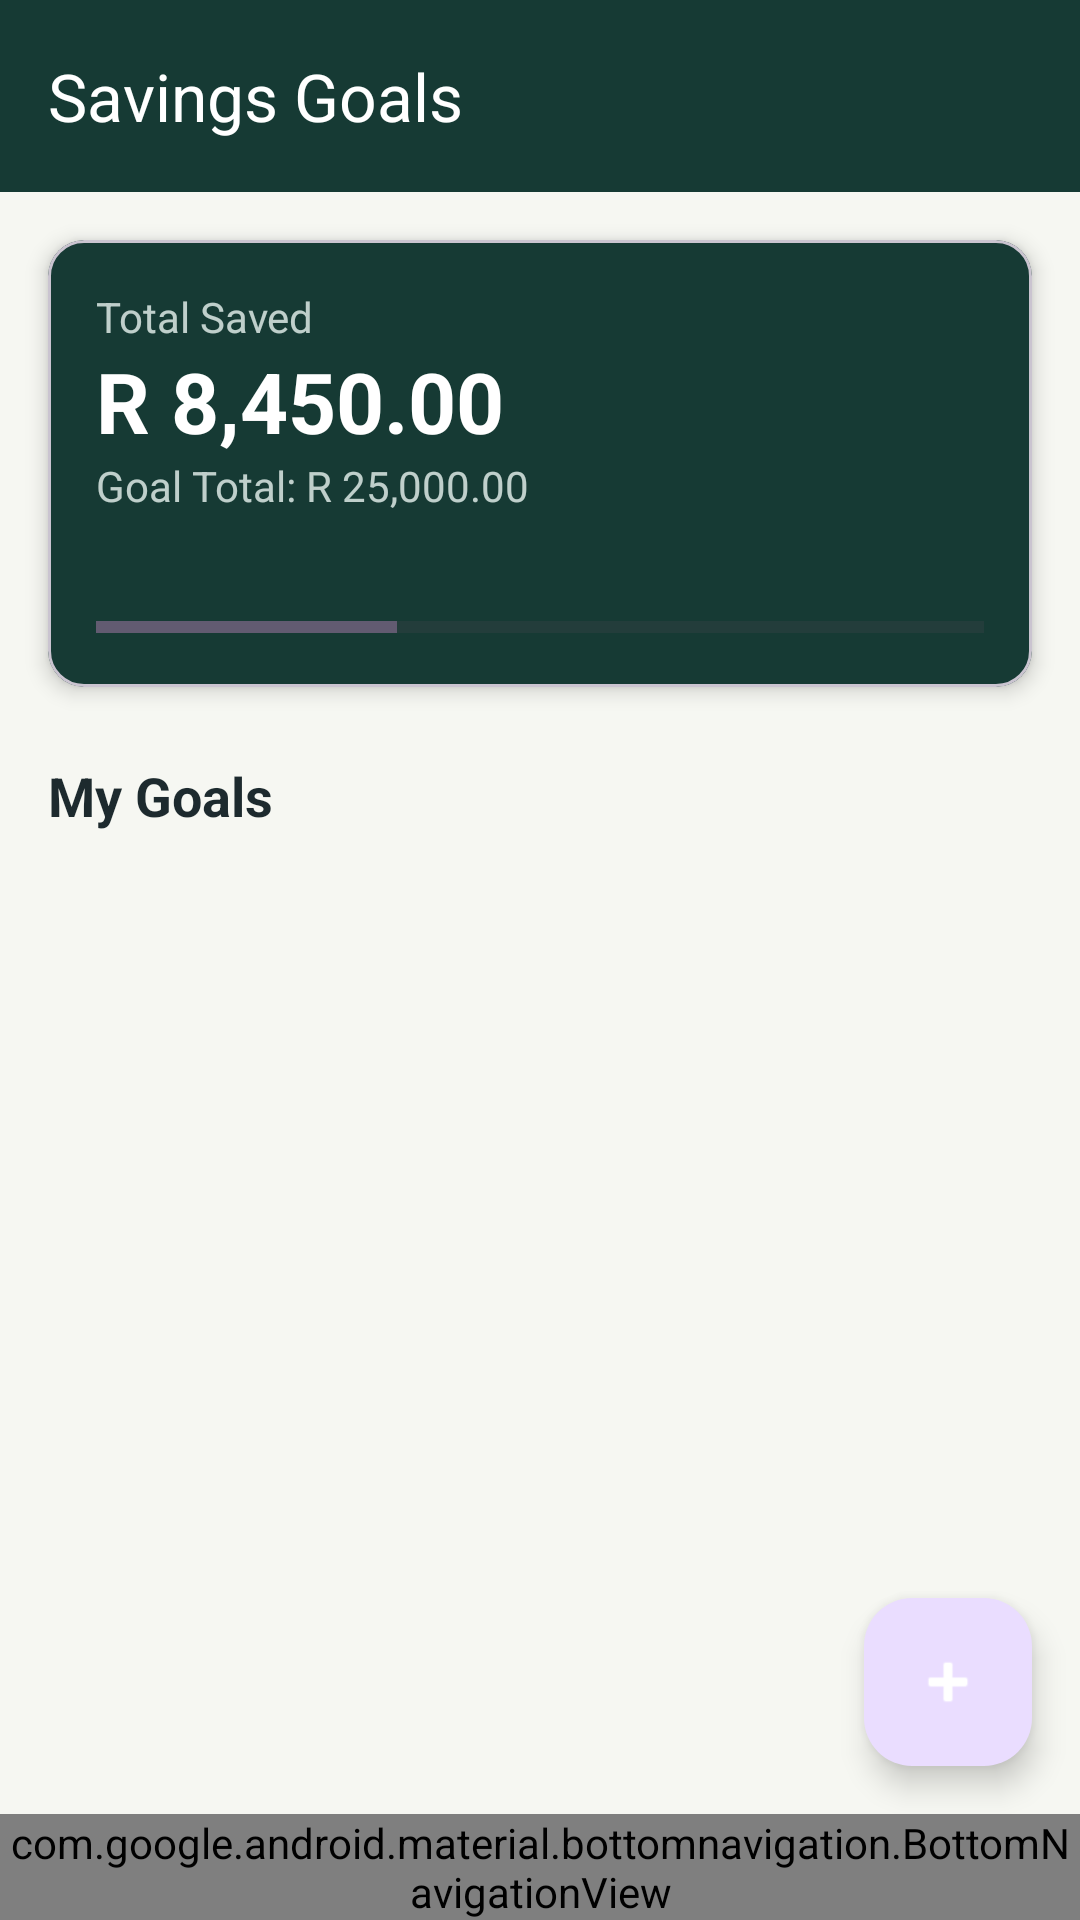

Icon click points for this 1080*1920 phone screenshot, format [x,y]:
Add Goal: [948,1682]
